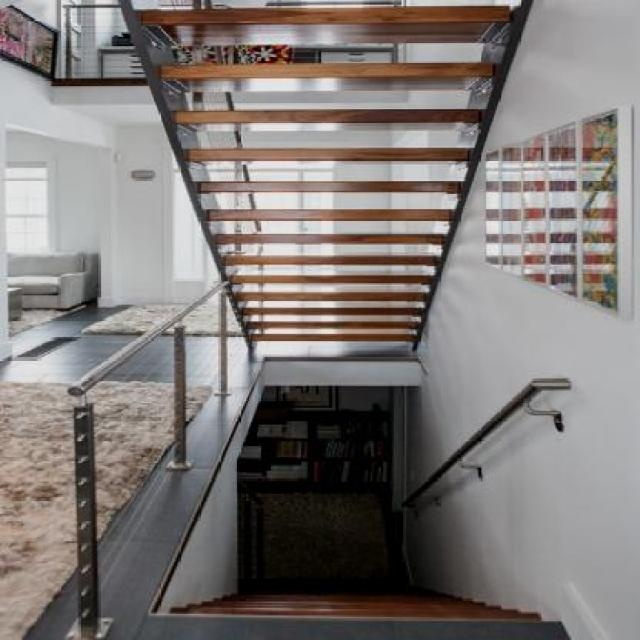stair: (173, 0, 552, 377)
